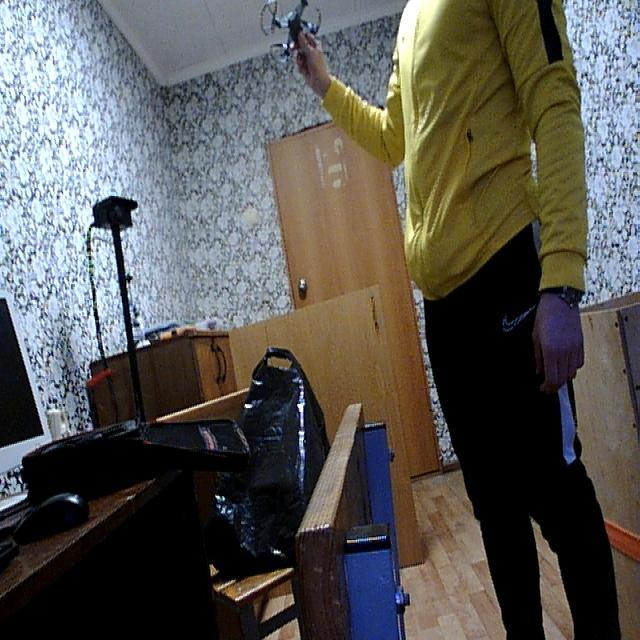drone: (255, 0, 335, 72)
